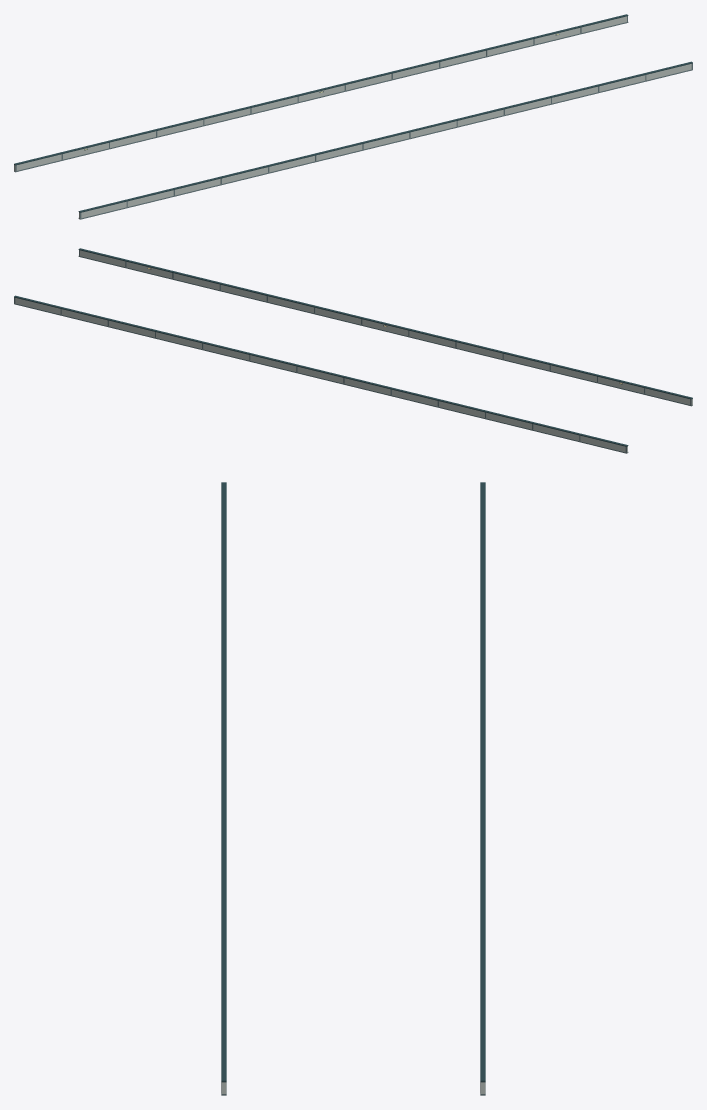
File: city_harbour_bridge_02.glb
The picture shows the model from 3 angles, top to bottom: view 1: azimuth 30°, elevation 25°; view 2: azimuth 150°, elevation 25°; view 3: azimuth 270°, elevation 25°; orthographic projection. The views are drawn at different scales.
Visible parts, largest first — view 1: CityHarbourBridge02_Mesh; view 2: CityHarbourBridge02_Mesh; view 3: CityHarbourBridge02_Mesh.
Boxes of the visible parts, left/top/right/bottom form: CityHarbourBridge02_Mesh: left=14, top=14, right=692, bottom=219; CityHarbourBridge02_Mesh: left=14, top=248, right=692, bottom=453; CityHarbourBridge02_Mesh: left=221, top=482, right=485, bottom=1095.
Bounding box in the file's own units: 91 × 1.1 × 17.
